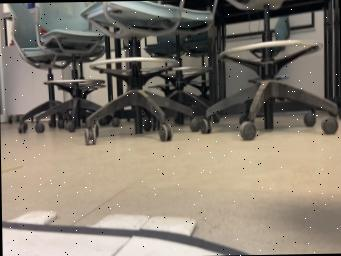street: (2, 220, 251, 256), (2, 220, 251, 256), (2, 220, 251, 256), (2, 220, 251, 256), (2, 220, 251, 256), (2, 220, 251, 256)
